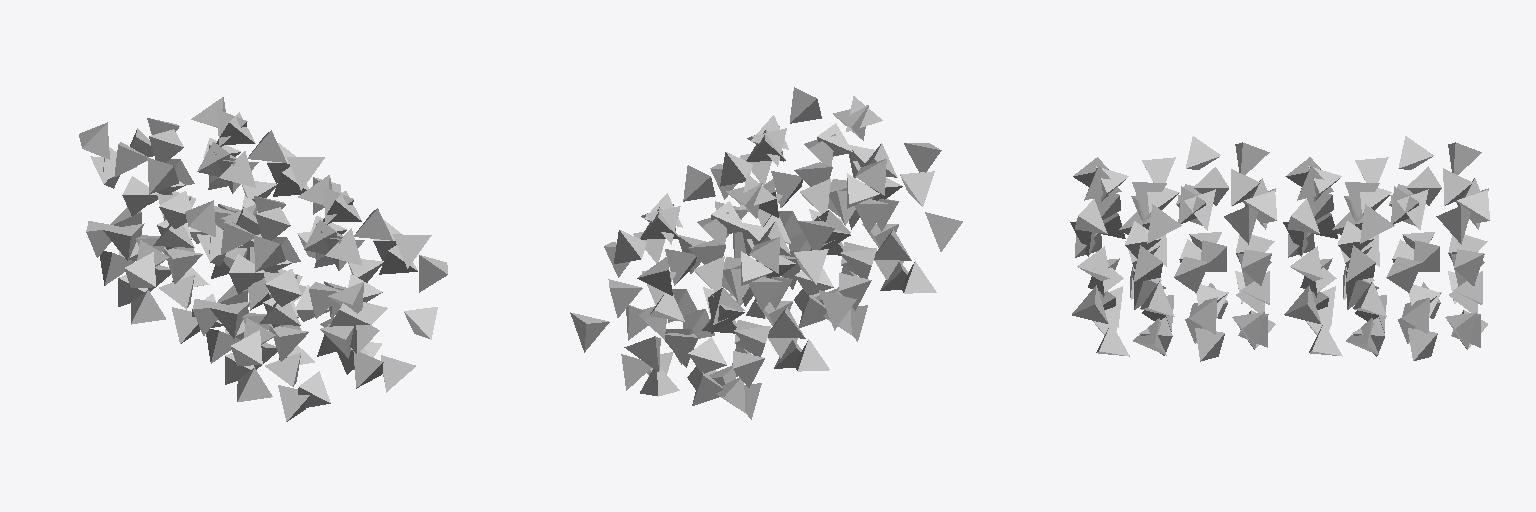
Rendered from sand2x1.obj.
The picture shows the model from 3 angles: view 1: azimuth 30°, elevation 25°; view 2: azimuth 150°, elevation 25°; view 3: azimuth 270°, elevation 25°; orthographic projection.
Parts seen in each view (by area): view 1: Plane.006_Plane.573, Plane.004_Plane.569; view 2: Plane.004_Plane.569, Plane.006_Plane.573; view 3: Plane.004_Plane.569, Plane.006_Plane.573.
Part boxes in pixels (left/top/right/bottom): Plane.006_Plane.573: left=185, top=175, right=447, bottom=421; Plane.004_Plane.569: left=79, top=97, right=341, bottom=343; Plane.004_Plane.569: left=570, top=165, right=856, bottom=419; Plane.006_Plane.573: left=678, top=87, right=962, bottom=341; Plane.004_Plane.569: left=1283, top=136, right=1489, bottom=360; Plane.006_Plane.573: left=1070, top=136, right=1276, bottom=361.
Size of the model in its own units: 0.0286 by 0.023 by 0.0471.